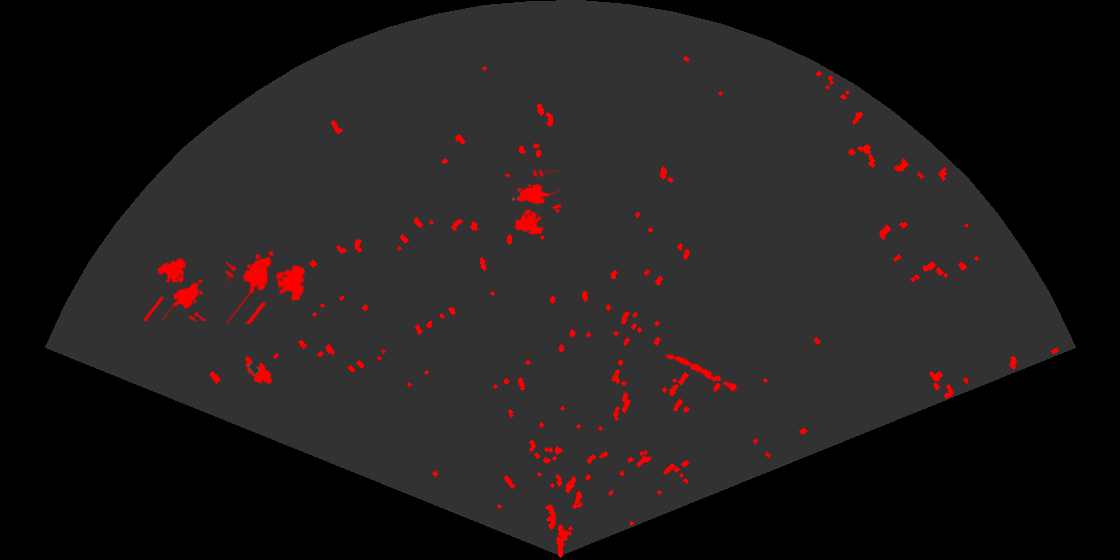AUV: (244, 354, 274, 386)
cage: (226, 249, 307, 324), (141, 256, 209, 321), (509, 170, 561, 236)
chain: (664, 353, 745, 395)
